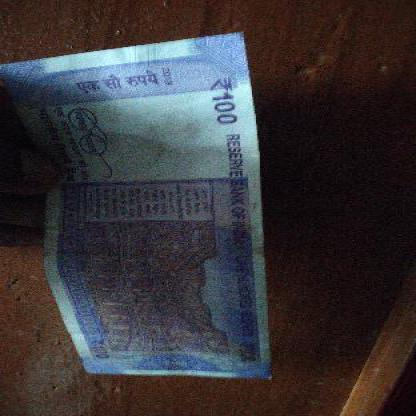New100Back: (0, 24, 267, 376)
